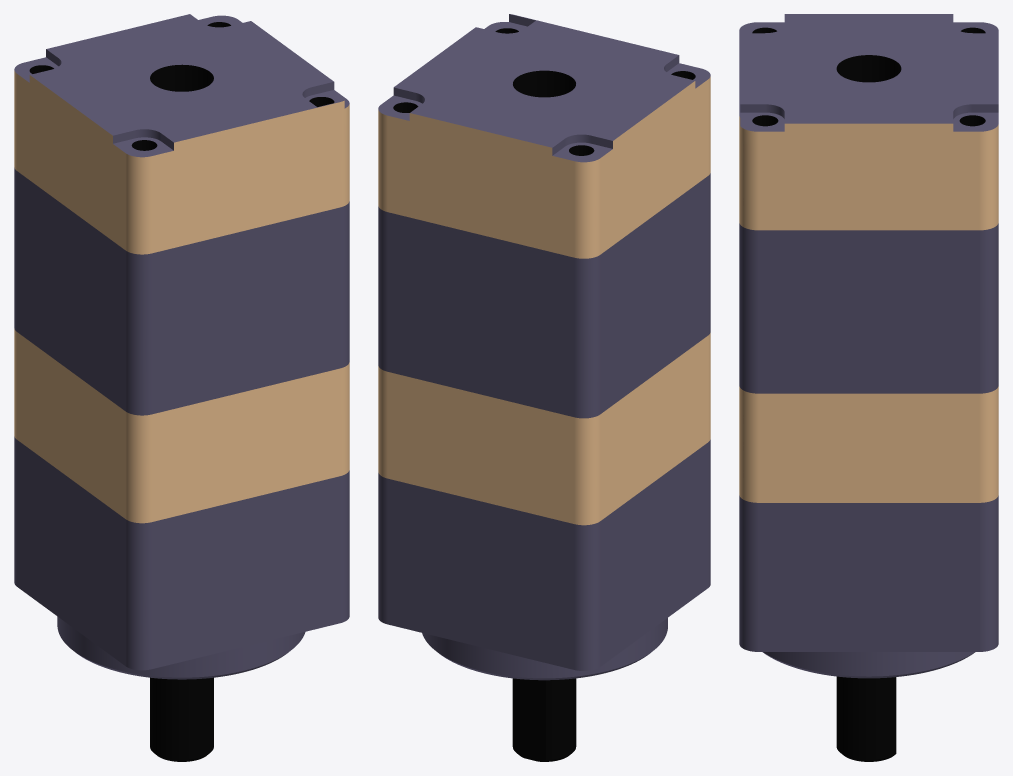
File: Main_PK513PA-H50S_v1.dae
3 views of the same model, side by side, from view 1: azimuth 30°, elevation 25°; view 2: azimuth 150°, elevation 25°; view 3: azimuth 270°, elevation 25° (orthographic). The views are drawn at different scales.
Parts seen in each view (by area): view 1: Main_PK513PA-H50S_v1; view 2: Main_PK513PA-H50S_v1; view 3: Main_PK513PA-H50S_v1.
Part boxes in pixels (left/top/right/bottom): Main_PK513PA-H50S_v1: left=14, top=14, right=349, bottom=761; Main_PK513PA-H50S_v1: left=378, top=14, right=710, bottom=761; Main_PK513PA-H50S_v1: left=739, top=14, right=998, bottom=761.
Bounding box in the file's own units: 0.02 × 0.02 × 0.058.
